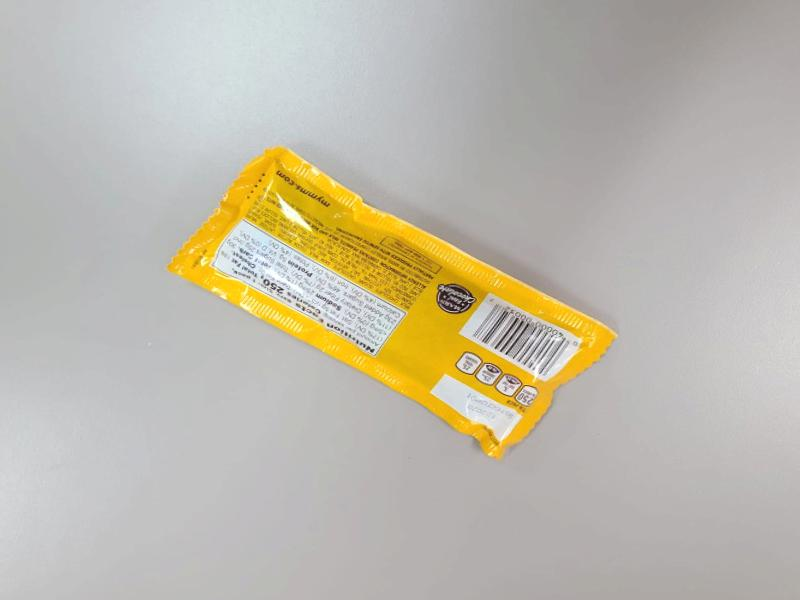m&m: (172, 142, 609, 472)
